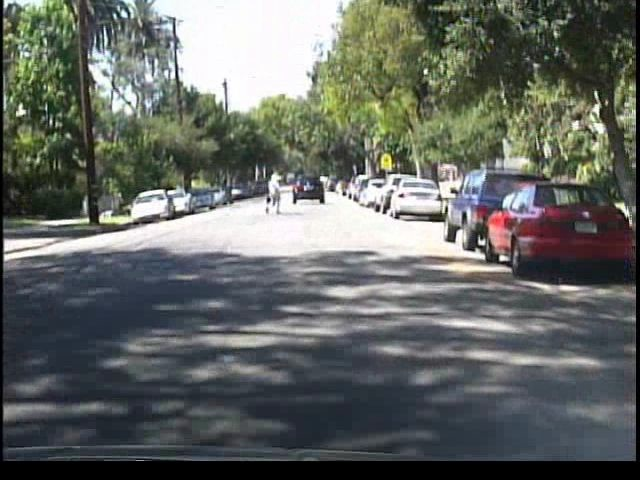person: (262, 160, 287, 208)
